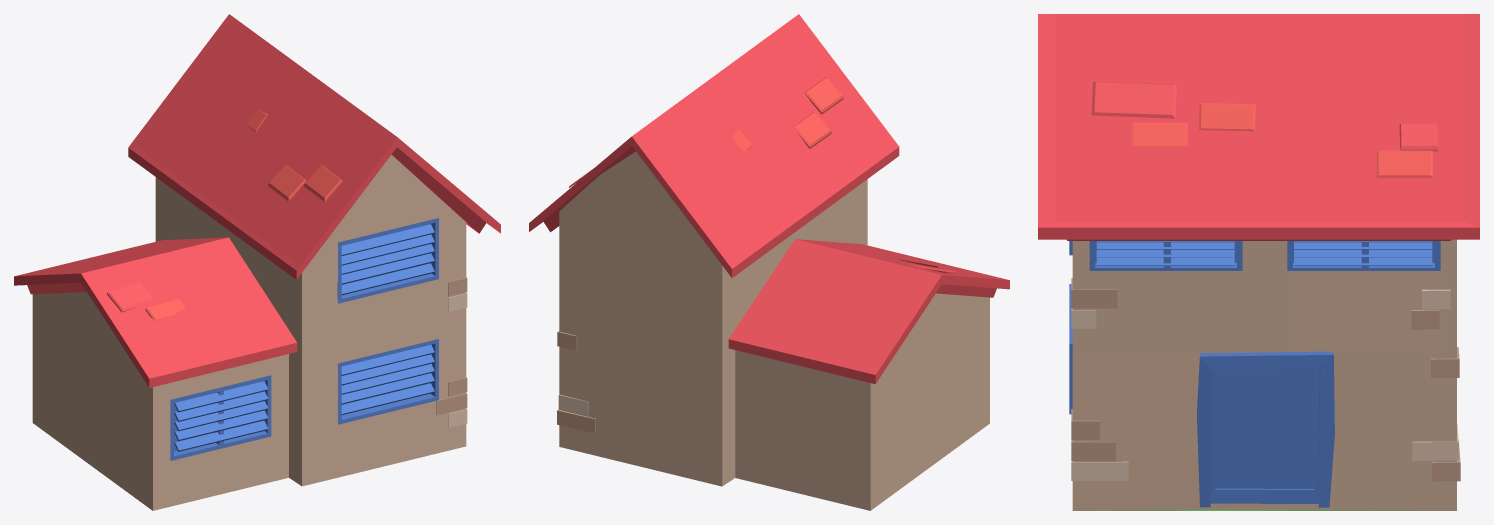
Rendered from house_type_1.obj.
3 views of the same model, side by side, from view 1: azimuth 30°, elevation 25°; view 2: azimuth 150°, elevation 25°; view 3: azimuth 270°, elevation 25° (orthographic). The views are drawn at different scales.
Visible parts, largest first — view 1: house_type_1_house-type-01; view 2: house_type_1_house-type-01; view 3: house_type_1_house-type-01.
Part boxes in pixels (x1,y1,x2,y2): house_type_1_house-type-01: [14, 14, 500, 510]; house_type_1_house-type-01: [529, 14, 1009, 510]; house_type_1_house-type-01: [1038, 14, 1479, 510].
Bounding box in the file's own units: 4.3 × 4.18 × 3.76.
